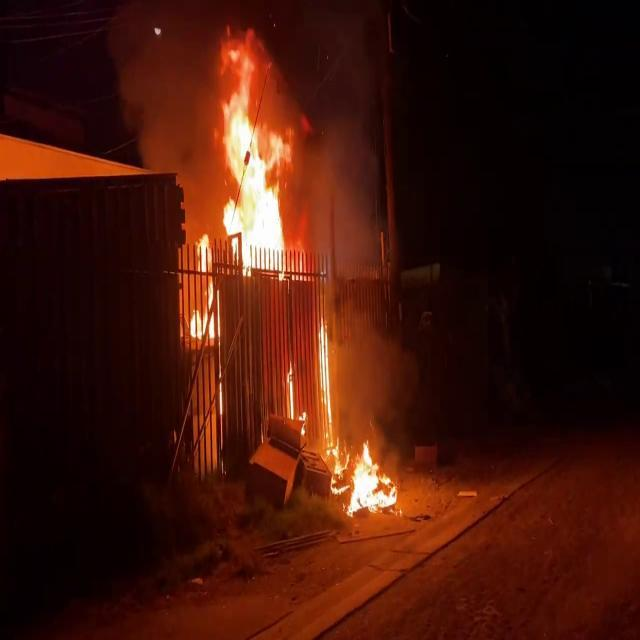Fire: (206, 56, 306, 284), (341, 434, 401, 516), (184, 219, 225, 338), (312, 310, 332, 417)
Smoke: (312, 104, 406, 420), (91, 4, 237, 192)
